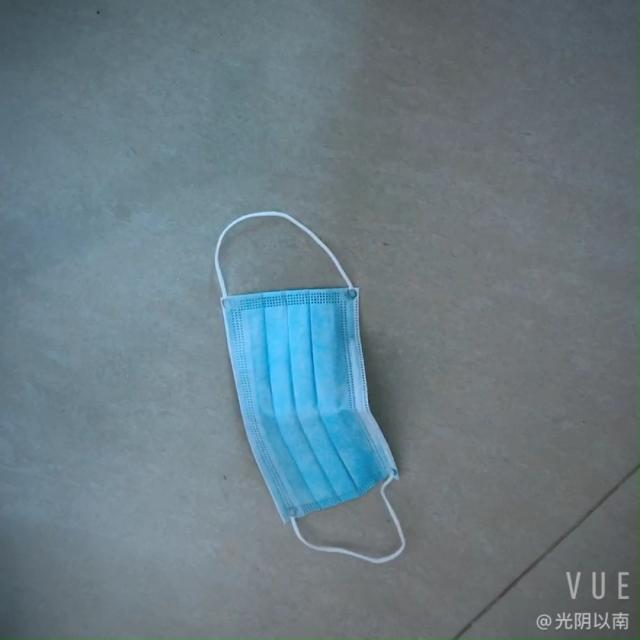face mask: (226, 258, 409, 546)
